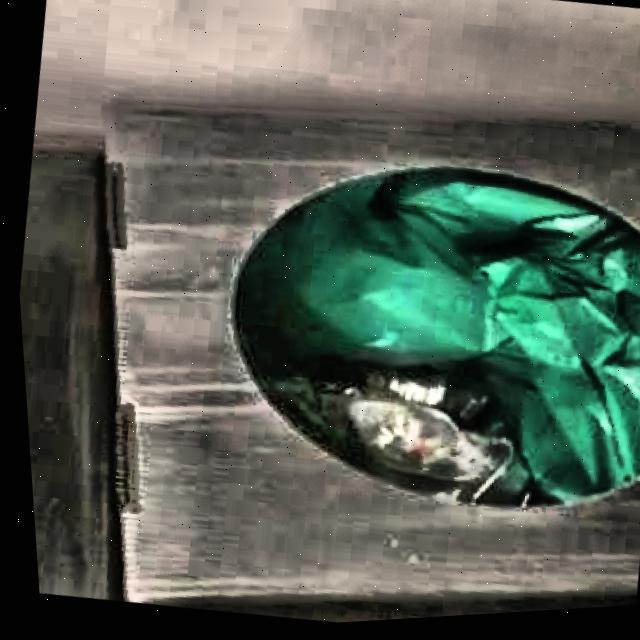plastic: (337, 378, 523, 512)
